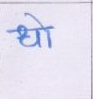o_matra: (37, 17, 54, 47)
